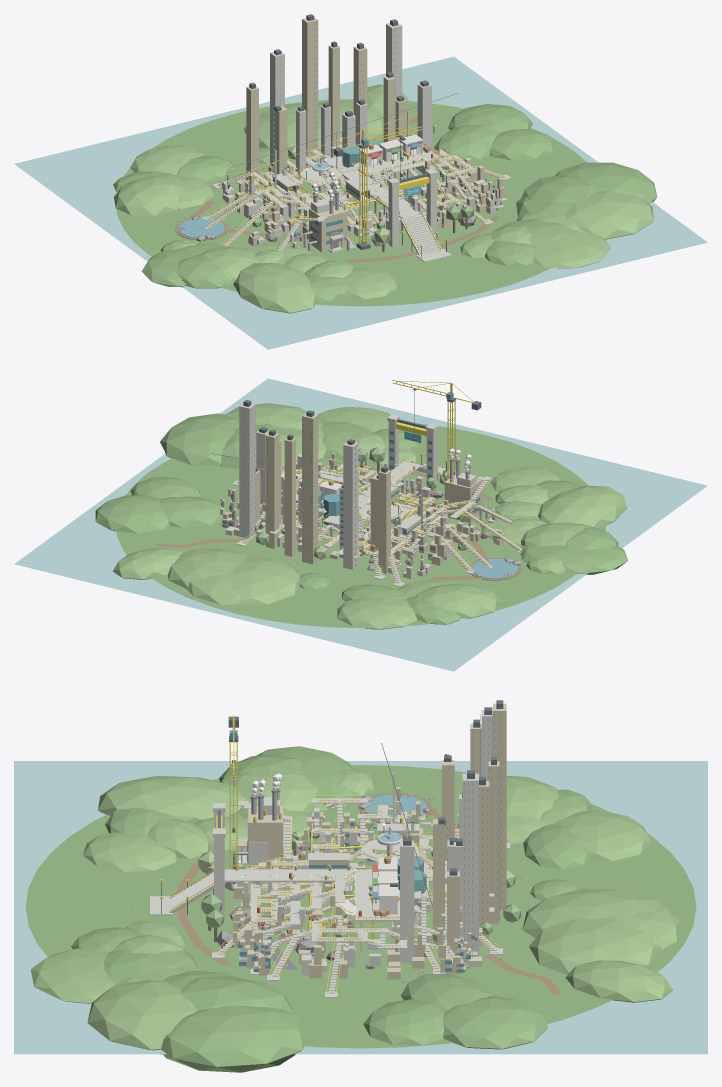
File: dim_city_0.2.1.glb
3 renders of one model, top to bottom at view 1: azimuth 30°, elevation 25°; view 2: azimuth 150°, elevation 25°; view 3: azimuth 270°, elevation 25°, orthographic. The views are drawn at different scales.
Parts seen in each view (by area): view 1: Water, Grassland, Hill.011, Hill.006, Hill.029, Hill.018, Skyscraper.001, Hill.004, Hill.016, Hill.022, Hill.013, Hill.021 (+34 smaller); view 2: Water, Grassland, Hill.018, Hill.011, Hill.003, Skyscraper.001, Hill.013, Skyscraper.003, Hill.021, Hill.039, Skyscraper, Hill.027 (+30 smaller); view 3: Grassland, Water, Hill.018, Hill.006, Hill.027, Hill.011, Hill.013, Hill.003, Hill.004, Hill.001, Hill.039, Hill.016 (+40 smaller).
Boxes of the visible parts, bbox=[...] form: Water: bbox=[14, 56, 707, 349]; Grassland: bbox=[116, 99, 586, 306]; Hill.011: bbox=[233, 263, 316, 313]; Hill.006: bbox=[564, 191, 653, 239]; Hill.029: bbox=[114, 176, 183, 216]; Hill.018: bbox=[555, 162, 657, 203]; Skyscraper.001: bbox=[302, 17, 318, 167]; Hill.004: bbox=[532, 231, 610, 268]; Hill.016: bbox=[490, 129, 556, 160]; Hill.022: bbox=[434, 124, 500, 160]; Hill.013: bbox=[448, 104, 532, 132]; Hill.021: bbox=[141, 243, 226, 286]; Water: bbox=[14, 378, 707, 671]; Grassland: bbox=[116, 422, 606, 628]; Hill.018: bbox=[160, 413, 239, 465]; Hill.011: bbox=[538, 485, 627, 528]; Hill.003: bbox=[224, 555, 299, 605]; Skyscraper.001: bbox=[302, 413, 318, 564]; Hill.013: bbox=[95, 495, 170, 533]; Skyscraper.003: bbox=[239, 403, 255, 538]; Hill.021: bbox=[520, 544, 627, 574]; Hill.039: bbox=[337, 597, 417, 629]; Skyscraper: bbox=[343, 442, 358, 569]; Hill.027: bbox=[167, 548, 247, 588]; Grassland: bbox=[25, 765, 696, 1048]; Water: bbox=[14, 761, 707, 1054]; Hill.018: bbox=[161, 1005, 311, 1072]; Hill.006: bbox=[87, 980, 197, 1054]; Hill.027: bbox=[529, 918, 661, 974]; Hill.011: bbox=[98, 775, 246, 822]; Hill.013: bbox=[443, 995, 547, 1049]; Hill.003: bbox=[522, 888, 672, 938]; Hill.004: bbox=[30, 948, 114, 1004]; Hill.001: bbox=[565, 960, 673, 1002]; Hill.039: bbox=[553, 810, 651, 860]; Hill.016: bbox=[363, 999, 444, 1045].
Size of the model in its own units: 130 by 43.18 by 120.
